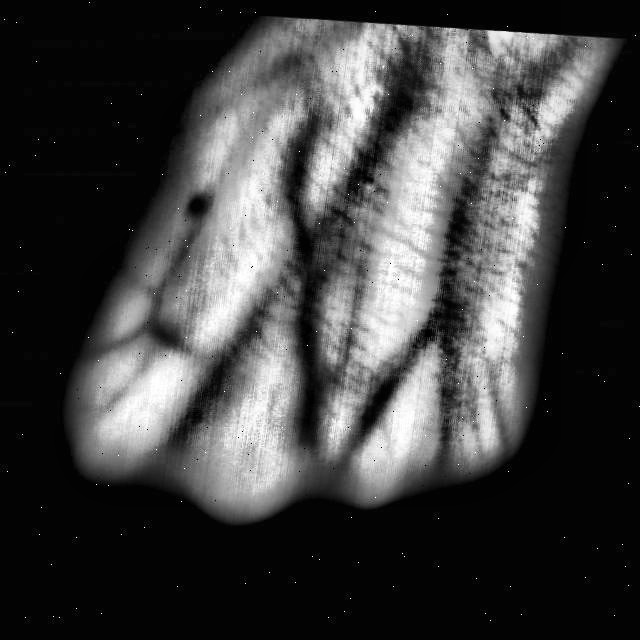Vein: (283, 169, 325, 369)
